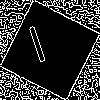I: (25, 25, 53, 73)
